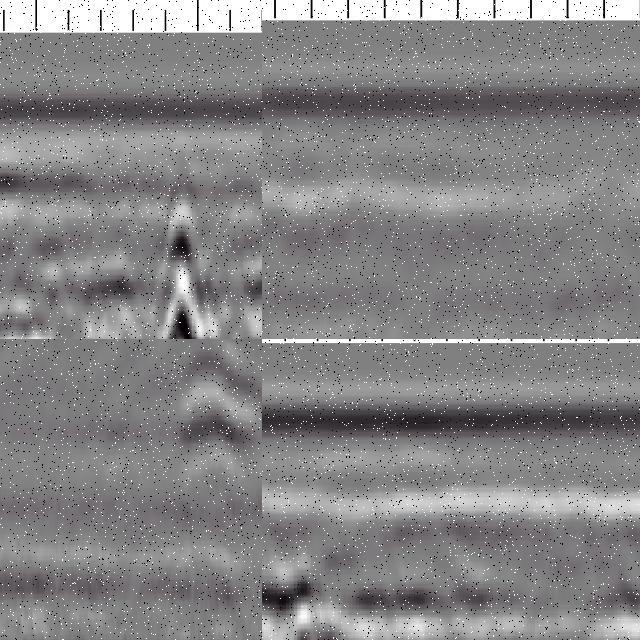crack: (155, 179, 209, 340)
loose: (180, 340, 263, 474), (263, 560, 339, 640)
